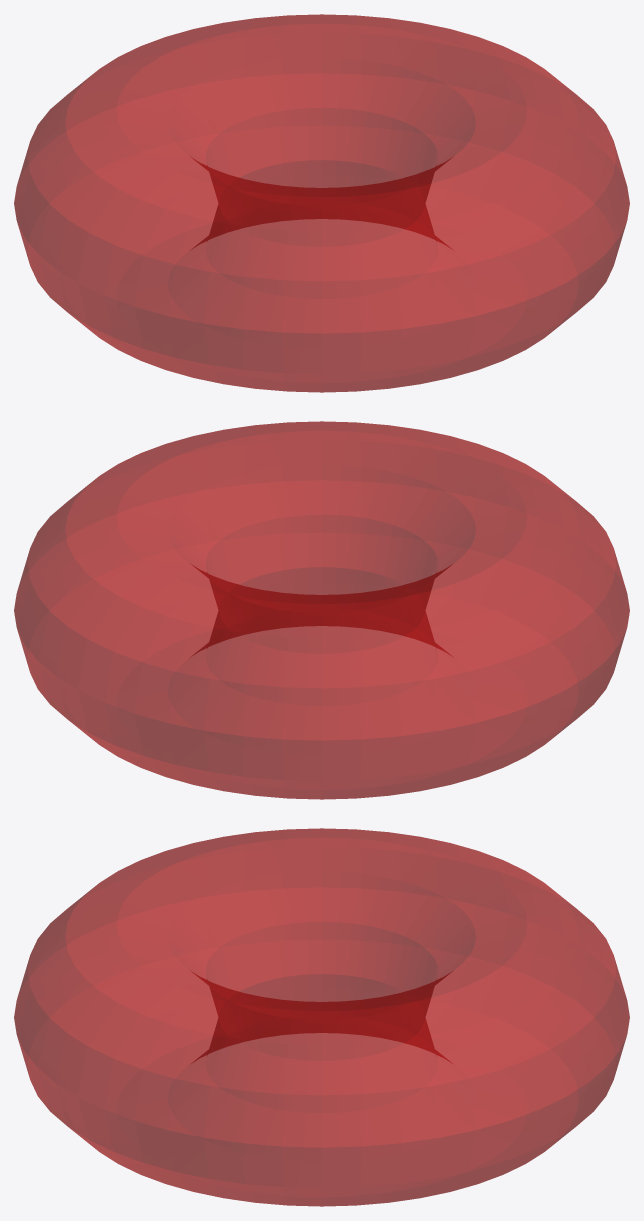
The model's file is red-blood-cell.dae.
3 renders of one model, top to bottom at view 1: azimuth 30°, elevation 25°; view 2: azimuth 150°, elevation 25°; view 3: azimuth 270°, elevation 25°, orthographic.
Visible parts, largest first — view 1: Torus; view 2: Torus; view 3: Torus.
Boxes of the visible parts, box(x1,y1,x2,y2) form: Torus: box(14, 14, 629, 392); Torus: box(14, 421, 629, 799); Torus: box(14, 828, 629, 1206).
Bounding box in the file's own units: 1.5 × 1.5 × 0.5.
